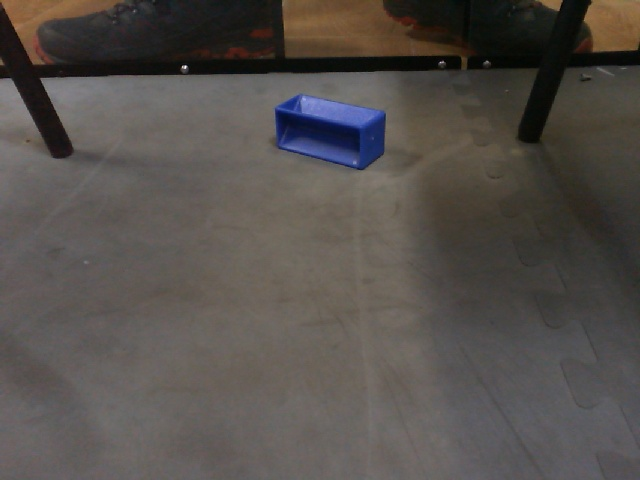BlueSample: (270, 89, 388, 174)
